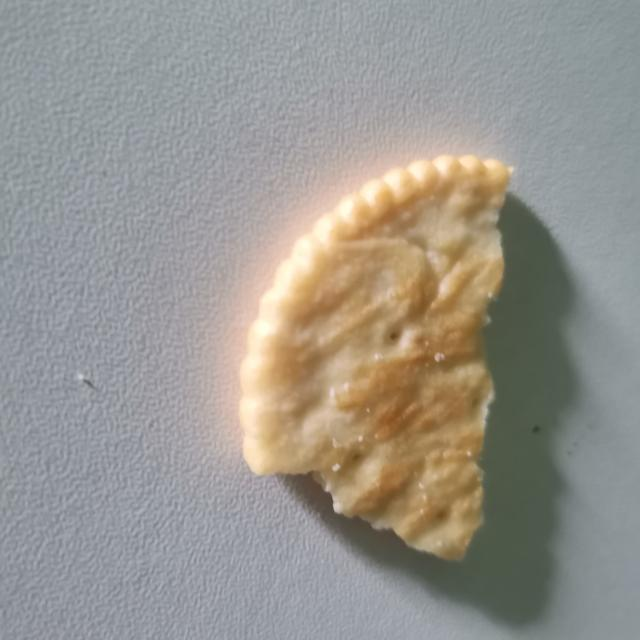Broken: (238, 151, 513, 561)
